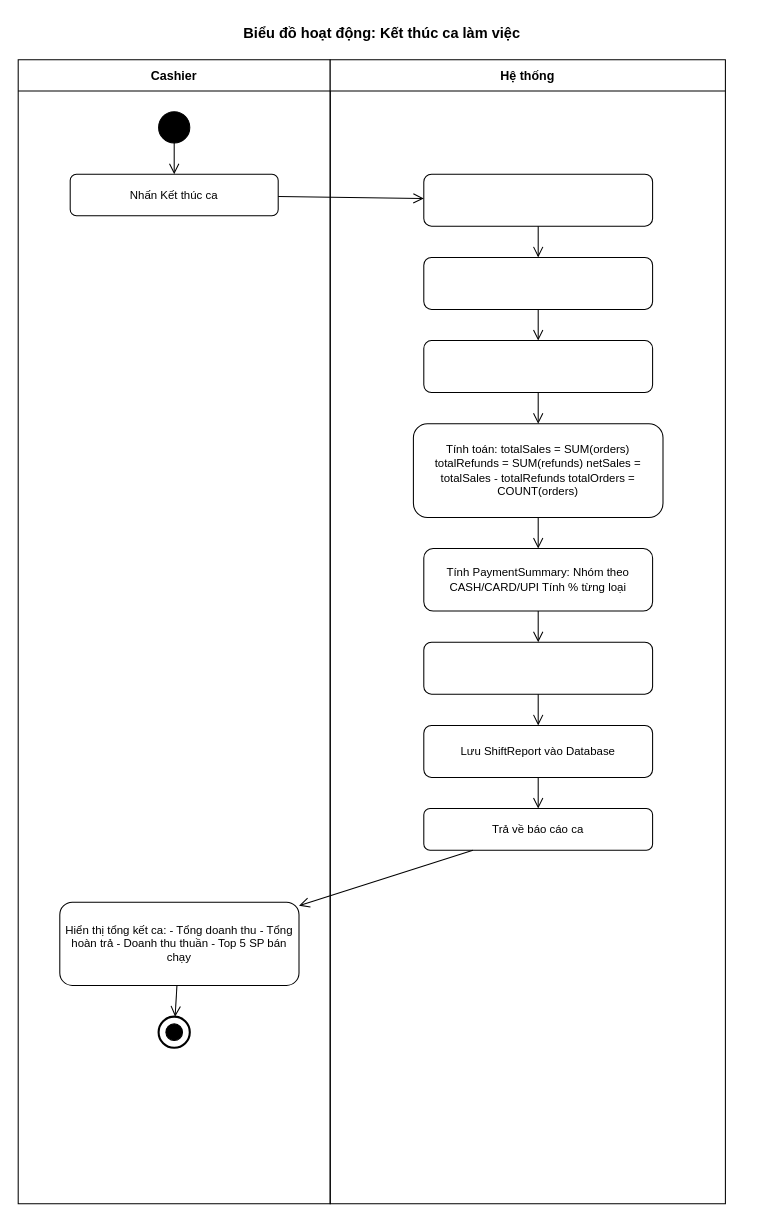
The diagram is 764 pixels wide and 1222 high, and some of its shapes have lost their labels. Each missing label, with the centre of its shape:
PUT /api/shifts/{id}/close Set shiftEnd = now(): [538,199]
Query tất cả Orders trong khoảng shiftStart-shiftEnd: [538,282]
Query tất cả Refunds trong khoảng shiftStart-shiftEnd: [538,366]
Tính Top 5 sản phẩm bán chạy nhất trong ca: [538,667]
